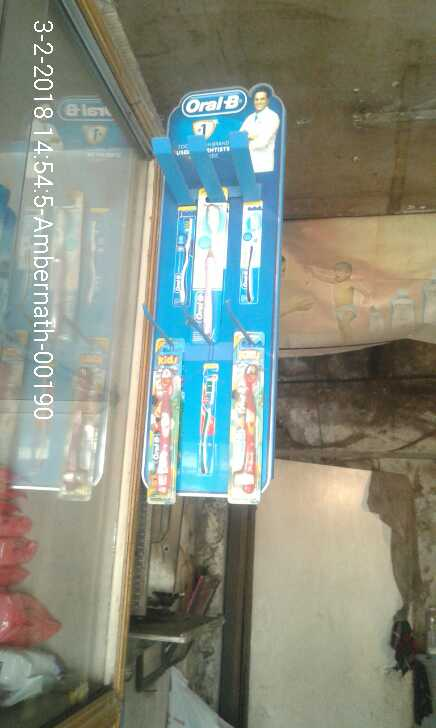oralb: (144, 346, 185, 500), (232, 347, 270, 504)
